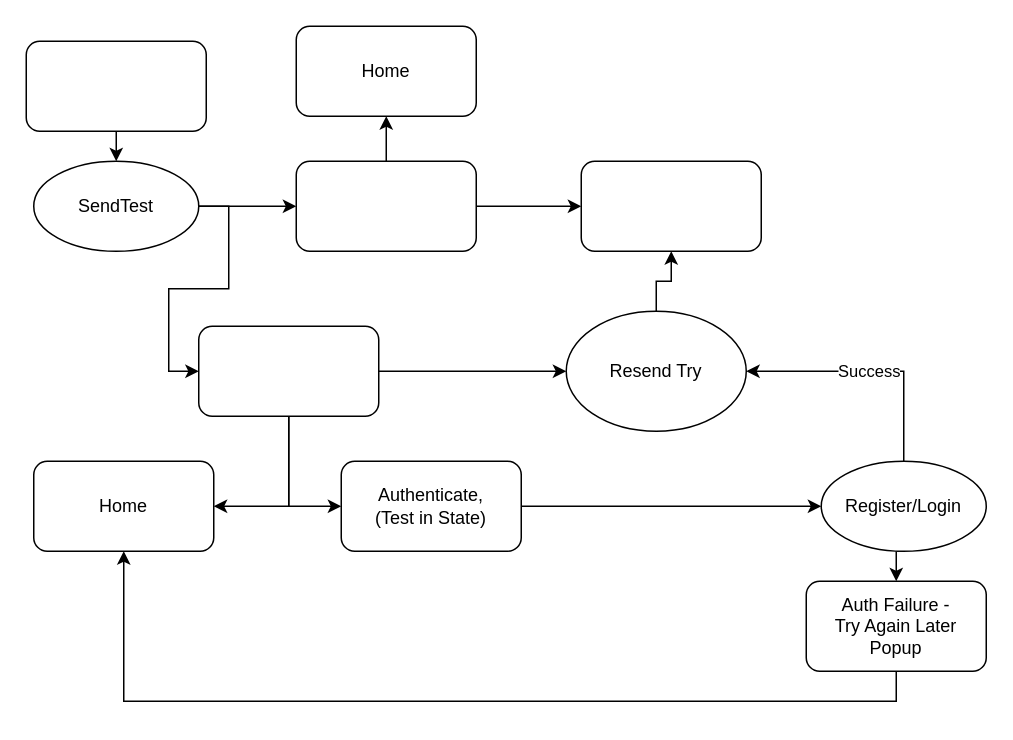
Image size: 1013x740. Some labels were removed from this diagram. The centre of each missing label's shape, as x and y in pixels:
"Compilazione Test" belongs at point (115, 85).
"Popup Failure" belongs at point (288, 370).
"Popup Success" belongs at point (385, 205).
"TestResult" belongs at point (670, 205).
